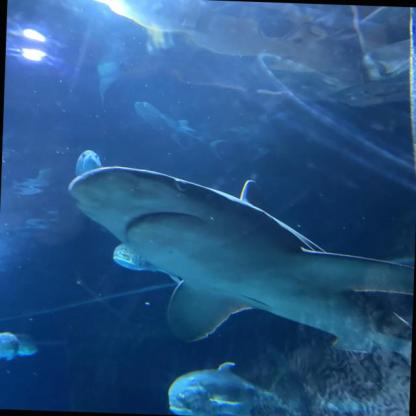fish: (168, 360, 286, 415), (0, 330, 40, 366), (76, 149, 101, 179)
shark: (63, 164, 415, 359)
